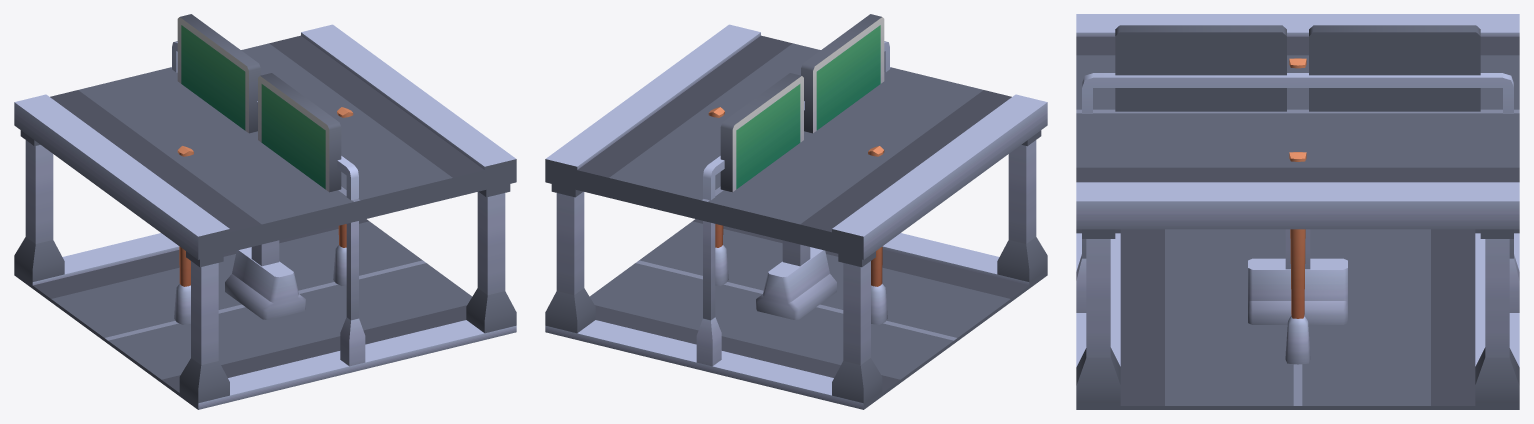
The model's file is street.glb.
The picture shows the model from 3 angles, left to right: view 1: azimuth 30°, elevation 25°; view 2: azimuth 150°, elevation 25°; view 3: azimuth 270°, elevation 25°; orthographic projection. The views are drawn at different scales.
Parts seen in each view (by area): view 1: road-bridge, sign-highway, construction-barrier, electricity-pole, bridge-pillar; view 2: road-bridge, sign-highway, construction-barrier, electricity-pole, bridge-pillar; view 3: road-bridge, sign-highway, construction-barrier, electricity-pole, bridge-pillar.
Boxes of the visible parts, bbox=[...] form: road-bridge: bbox=[14, 24, 516, 409]; sign-highway: bbox=[172, 14, 365, 366]; construction-barrier: bbox=[225, 247, 305, 319]; electricity-pole: bbox=[174, 107, 353, 324]; bridge-pillar: bbox=[251, 240, 279, 266]; road-bridge: bbox=[545, 24, 1047, 409]; sign-highway: bbox=[696, 14, 889, 366]; construction-barrier: bbox=[756, 247, 836, 319]; electricity-pole: bbox=[708, 107, 887, 324]; bridge-pillar: bbox=[782, 240, 810, 266]; road-bridge: bbox=[1076, 14, 1519, 409]; sign-highway: bbox=[1076, 25, 1519, 312]; construction-barrier: bbox=[1248, 258, 1347, 324]; electricity-pole: bbox=[1285, 58, 1310, 364]; bridge-pillar: bbox=[1285, 229, 1310, 269].
Size of the model in its own units: 1.75 by 1.24 by 1.75.
Materials: 1 (1 with a texture image).
